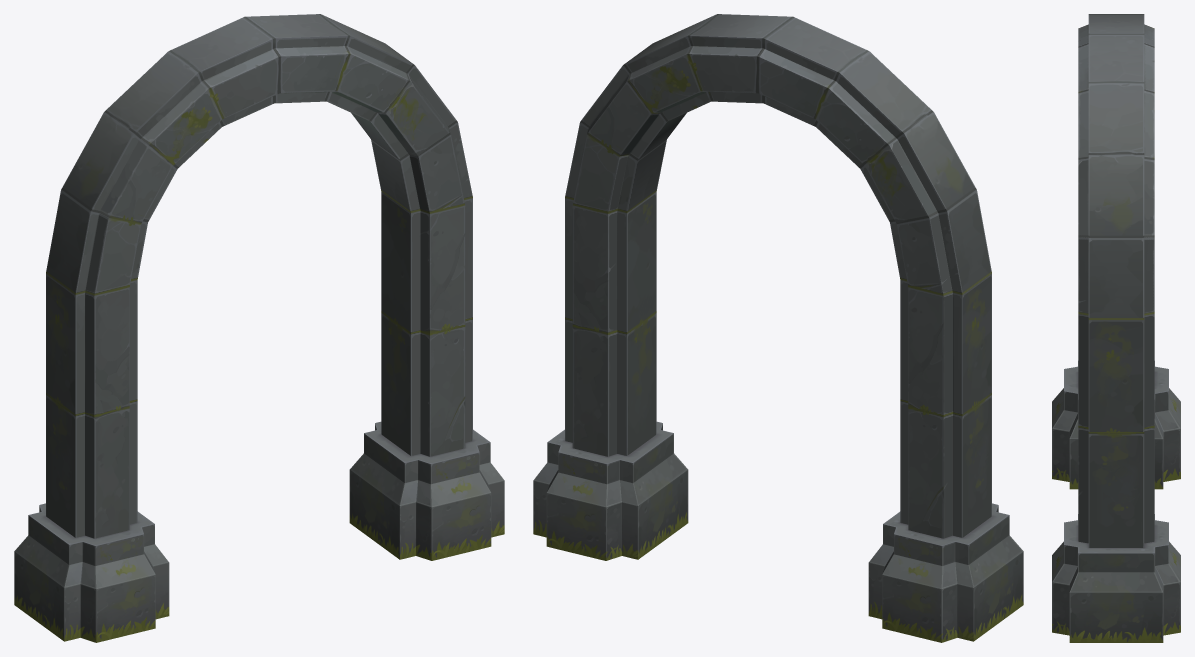
Rendered from Pr_ArchGate_01.FBX.
The picture shows the model from 3 angles, left to right: view 1: azimuth 30°, elevation 25°; view 2: azimuth 150°, elevation 25°; view 3: azimuth 270°, elevation 25°; orthographic projection. The views are drawn at different scales.
Parts seen in each view (by area): view 1: Pr_ArchGate_01; view 2: Pr_ArchGate_01; view 3: Pr_ArchGate_01.
Part boxes in pixels (x1=…): Pr_ArchGate_01: x1=14, y1=14, x2=504, y2=642; Pr_ArchGate_01: x1=533, y1=14, x2=1023, y2=642; Pr_ArchGate_01: x1=1052, y1=14, x2=1180, y2=642.
Size of the model in its own units: 4.68 by 5.5 by 1.26.
1 material, 1 textured.
